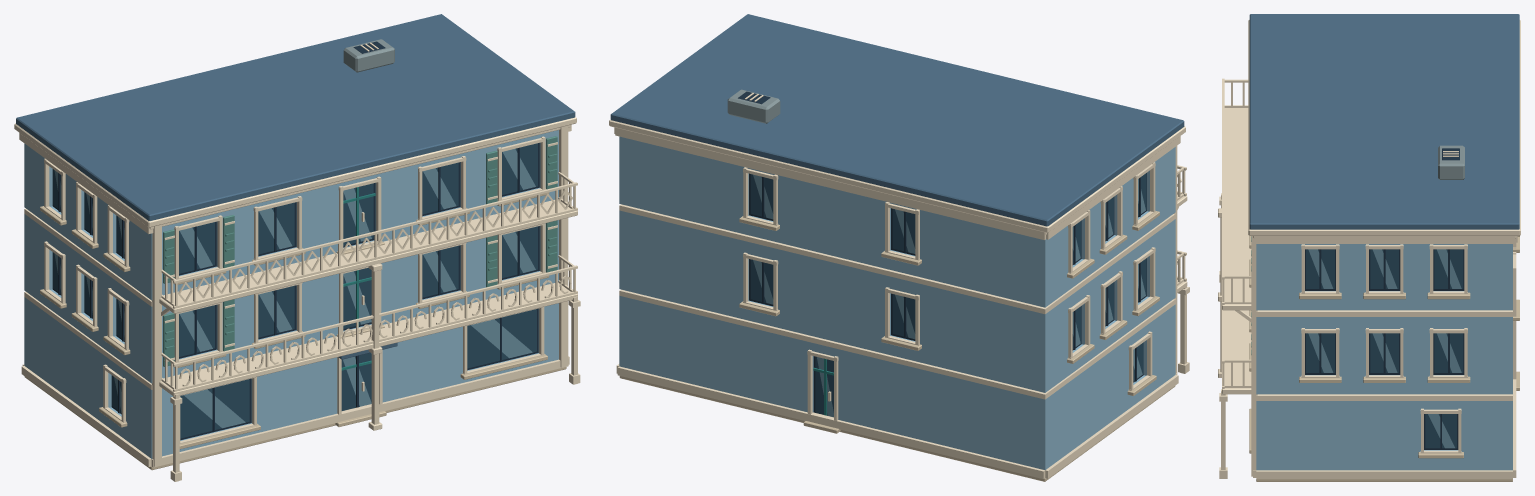
File: long_balcony_apartments.glb
3 renders of one model, left to right at view 1: azimuth 30°, elevation 25°; view 2: azimuth 150°, elevation 25°; view 3: azimuth 270°, elevation 25°, orthographic. The views are drawn at different scales.
Parts seen in each view (by area): view 1: LongBalconyApartments_StaticMesh; view 2: LongBalconyApartments_StaticMesh; view 3: LongBalconyApartments_StaticMesh.
Part boxes in pixels (left/top/right/bottom): LongBalconyApartments_StaticMesh: left=14, top=14, right=580, bottom=481; LongBalconyApartments_StaticMesh: left=609, top=14, right=1189, bottom=481; LongBalconyApartments_StaticMesh: left=1218, top=14, right=1520, bottom=481.
Size of the model in its own units: 16.72 by 10.31 by 10.14.
